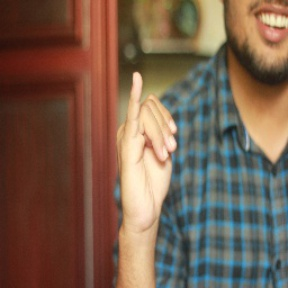I: (112, 70, 184, 222)
